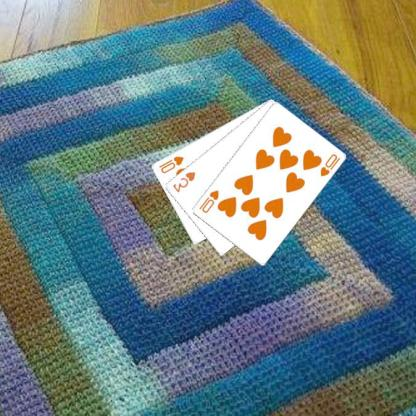10H: (319, 150, 343, 178), (157, 153, 187, 175), (198, 188, 222, 214)
3H: (172, 169, 198, 194)
